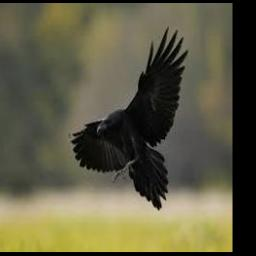Crow: (68, 26, 188, 210)
